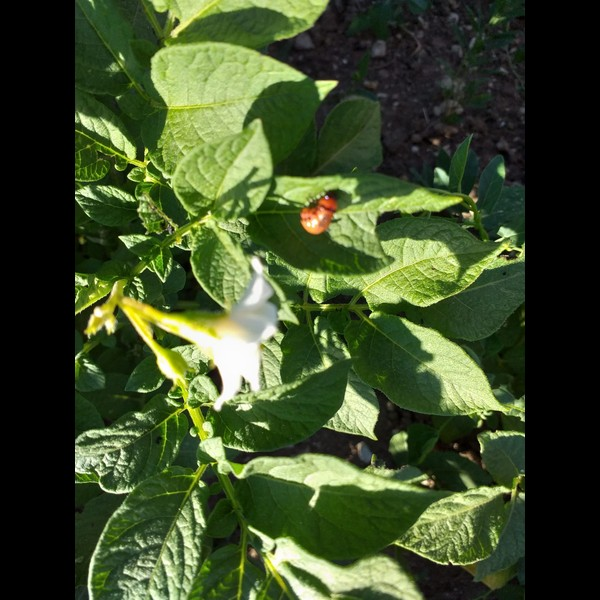hrosc: (296, 193, 339, 235)
